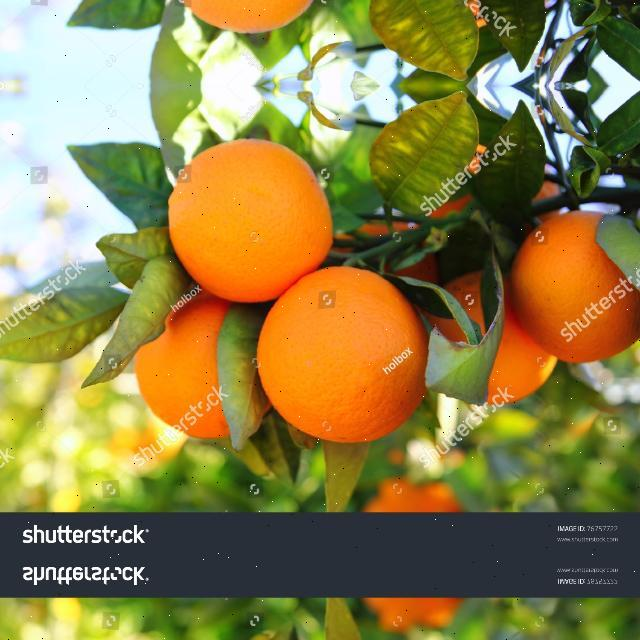Orange: (255, 265, 429, 443), (166, 137, 333, 303), (509, 209, 639, 363), (133, 292, 269, 439), (431, 269, 557, 407), (178, 0, 317, 33)
